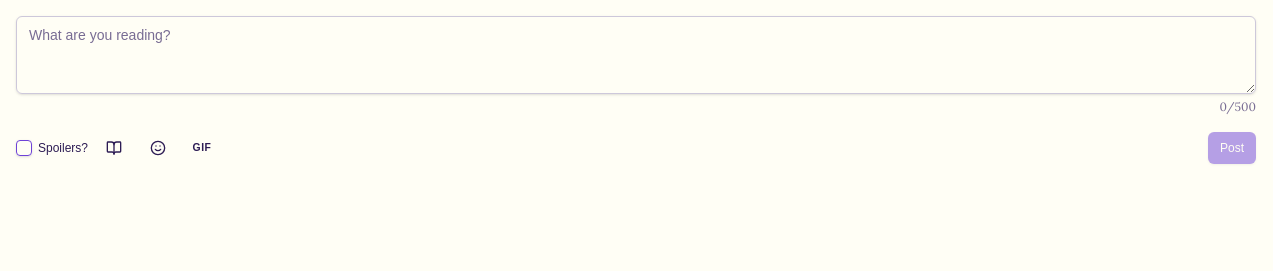
Test: PostComposer › clicking + Book opens the search panel
expect the field with placeholder "Search for a book..." is not shown: met
Click the button named "Add book" at {"x": 114, "y": 148}, box [96,130,132,166]
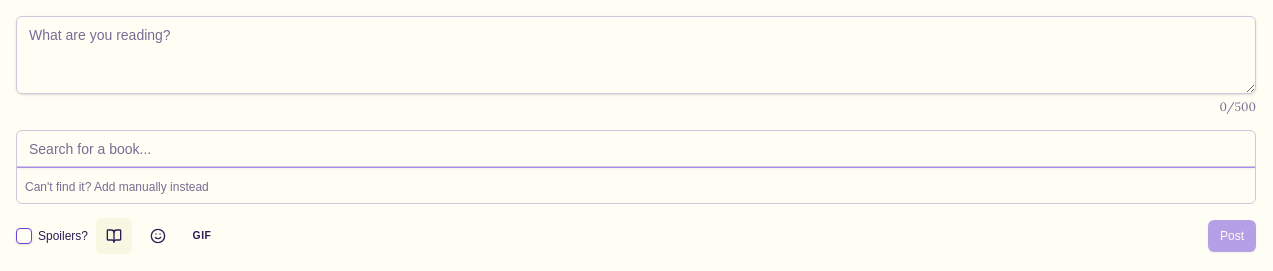
expect the field with placeholder "Search for a book..." is shown: met, box [17,131,1255,167]
expect the button named "Remove book" is shown: met, box [96,218,132,254]
